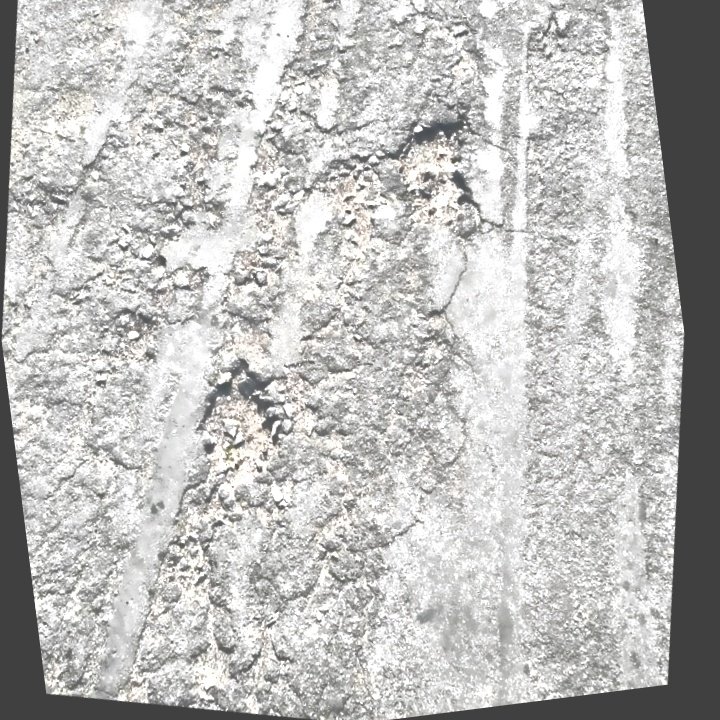pothole: (177, 340, 301, 498), (377, 95, 498, 243)
